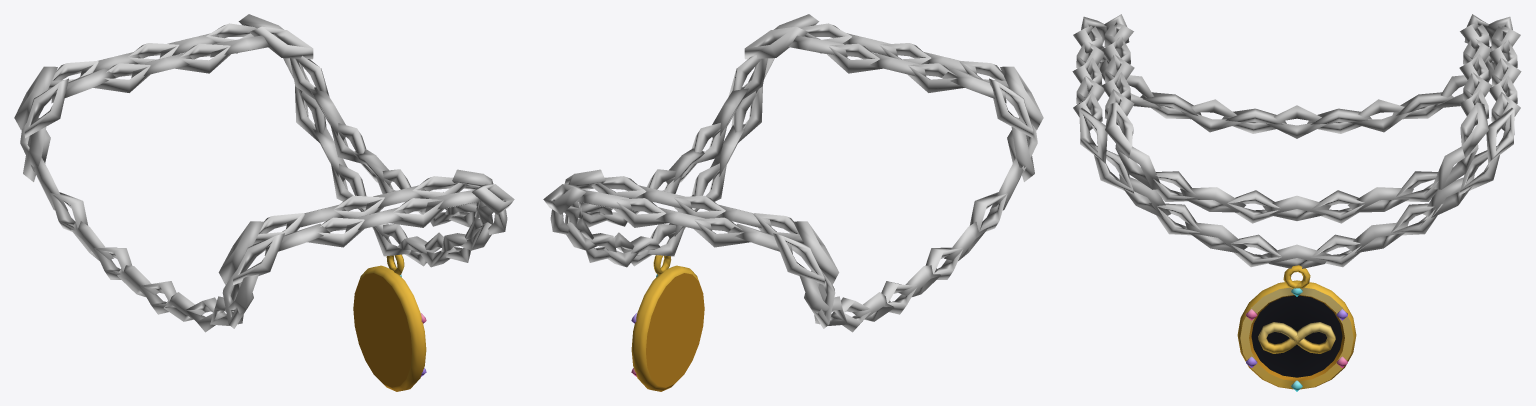
File: acc_chain_medal.glb
3 views of the same model, side by side, from view 1: azimuth 30°, elevation 25°; view 2: azimuth 150°, elevation 25°; view 3: azimuth 270°, elevation 25° (orthographic). The views are drawn at different scales.
Parts seen in each view (by area): view 1: acc_chain_medal; view 2: acc_chain_medal; view 3: acc_chain_medal.
Part boxes in pixels (<box>): acc_chain_medal: <box>14,14,514,391</box>; acc_chain_medal: <box>543,14,1043,391</box>; acc_chain_medal: <box>1072,14,1521,391</box>.
Bounding box in the file's own units: 0.49 × 0.4831 × 0.7202.
